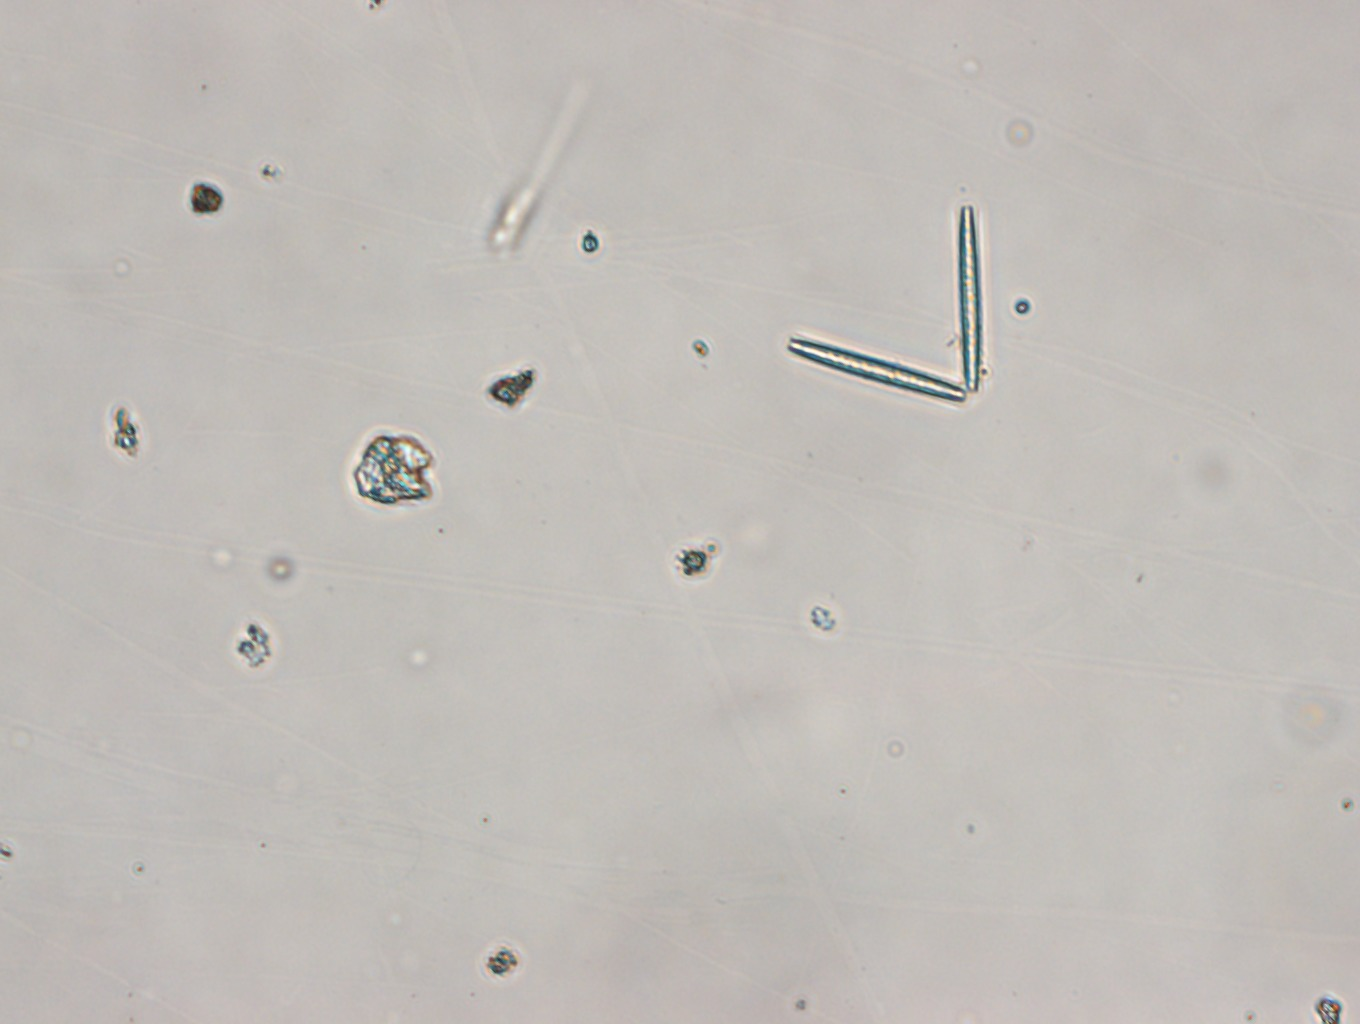thalassionema frauenfeldii: (781, 197, 996, 414)
